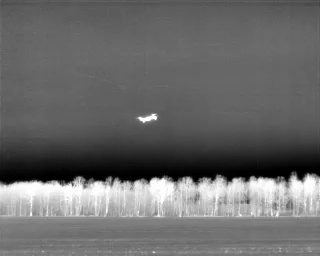DRONE: (133, 108, 163, 128)
